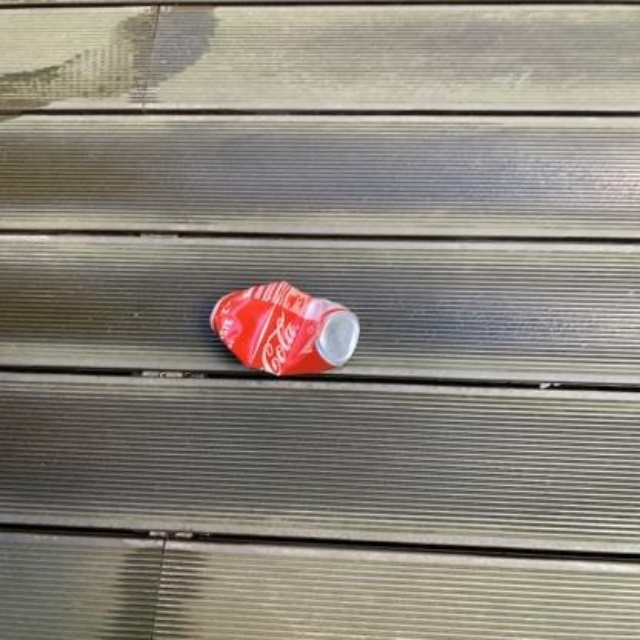trash: (211, 282, 358, 374)
